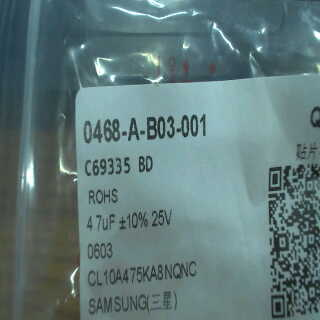4.7uF: (87, 211, 117, 236)
